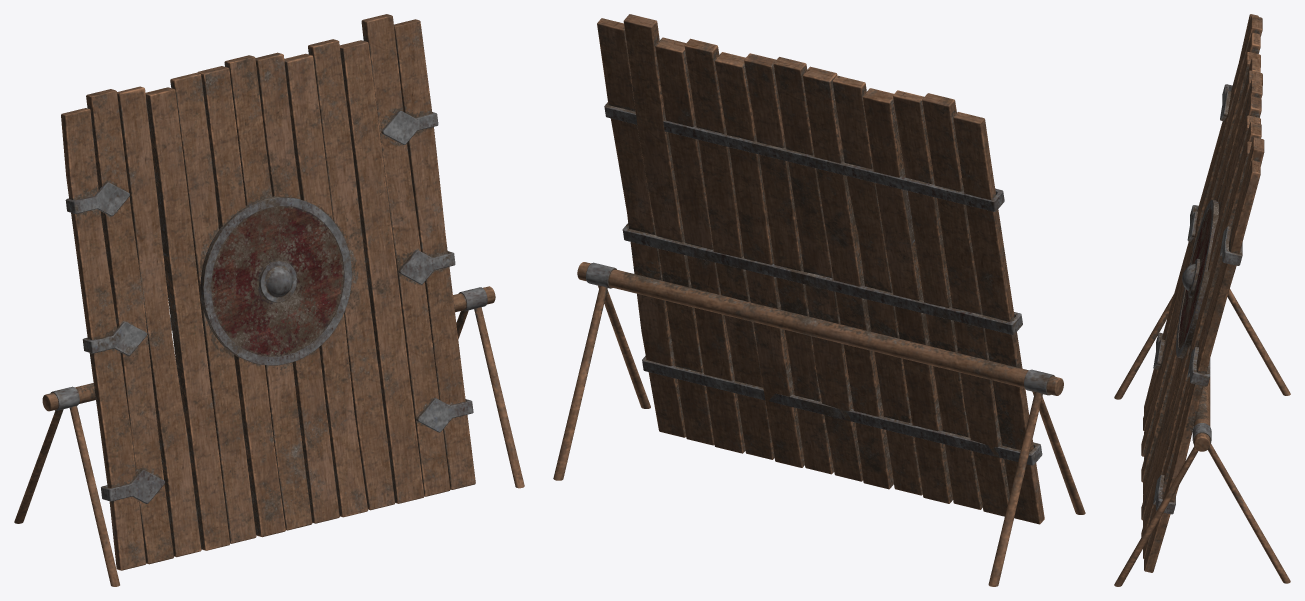
The model's file is wooden__barricade_low.glb.
3 renders of one model, left to right at view 1: azimuth 30°, elevation 25°; view 2: azimuth 150°, elevation 25°; view 3: azimuth 270°, elevation 25°, orthographic. The views are drawn at different scales.
Parts seen in each view (by area): view 1: Plank_Defenses_low, Shield_Base_low, Metal_Support_low, Shield_Metal_Frame_low, Feet_low, Rod_Support_low, Metal_Feet_Holder_low; view 2: Plank_Defenses_low, Metal_Support_low, Rod_Support_low, Feet_low, Metal_Feet_Holder_low; view 3: Plank_Defenses_low, Feet_low, Metal_Support_low, Shield_Base_low, Shield_Metal_Frame_low, Rod_Support_low.
Part boxes in pixels (x1,y1,x2,y2): Plank_Defenses_low: [61, 14, 475, 570]; Shield_Base_low: [211, 206, 344, 356]; Metal_Support_low: [65, 110, 473, 503]; Shield_Metal_Frame_low: [200, 196, 352, 365]; Feet_low: [14, 307, 524, 586]; Rod_Support_low: [42, 286, 495, 411]; Metal_Feet_Holder_low: [51, 287, 487, 410]; Plank_Defenses_low: [597, 14, 1044, 524]; Metal_Support_low: [604, 102, 1042, 465]; Rod_Support_low: [577, 262, 1063, 395]; Feet_low: [553, 285, 1085, 586]; Metal_Feet_Holder_low: [586, 262, 1054, 395]; Plank_Defenses_low: [1141, 14, 1264, 572]; Feet_low: [1114, 288, 1290, 586]; Metal_Support_low: [1153, 84, 1242, 514]; Shield_Base_low: [1178, 208, 1211, 348]; Shield_Metal_Frame_low: [1176, 199, 1218, 358]; Rod_Support_low: [1194, 377, 1210, 451].
Size of the model in its own units: 1.2 by 1.12 by 0.4347.
Materials: 1 (1 with a texture image).
